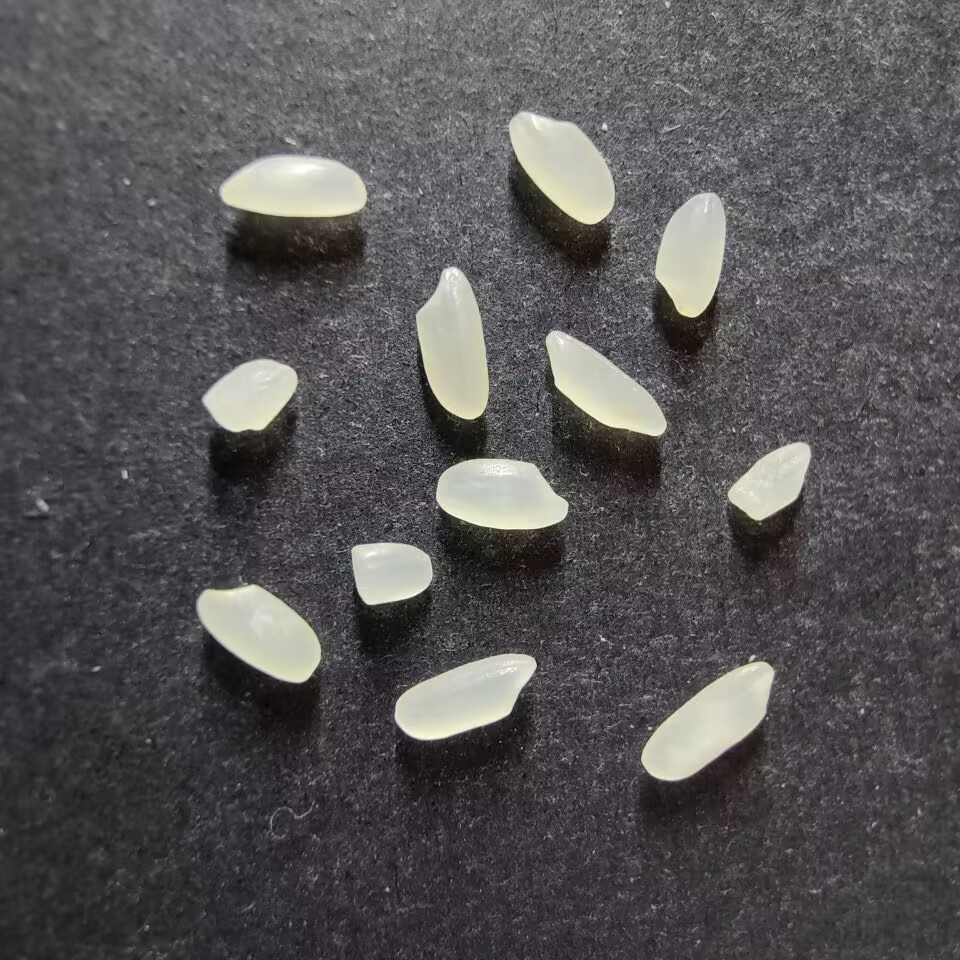broken: (201, 359, 297, 432), (726, 442, 812, 520), (349, 541, 433, 605)
rice: (640, 660, 775, 781), (544, 329, 667, 437), (393, 653, 537, 740), (196, 584, 321, 683), (508, 111, 614, 224), (415, 266, 489, 419), (435, 457, 569, 530), (219, 155, 367, 218), (653, 192, 727, 318)
